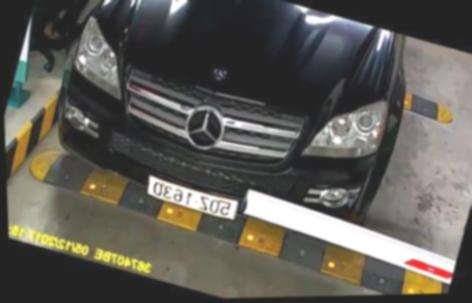License_Plate: (146, 174, 242, 224)
